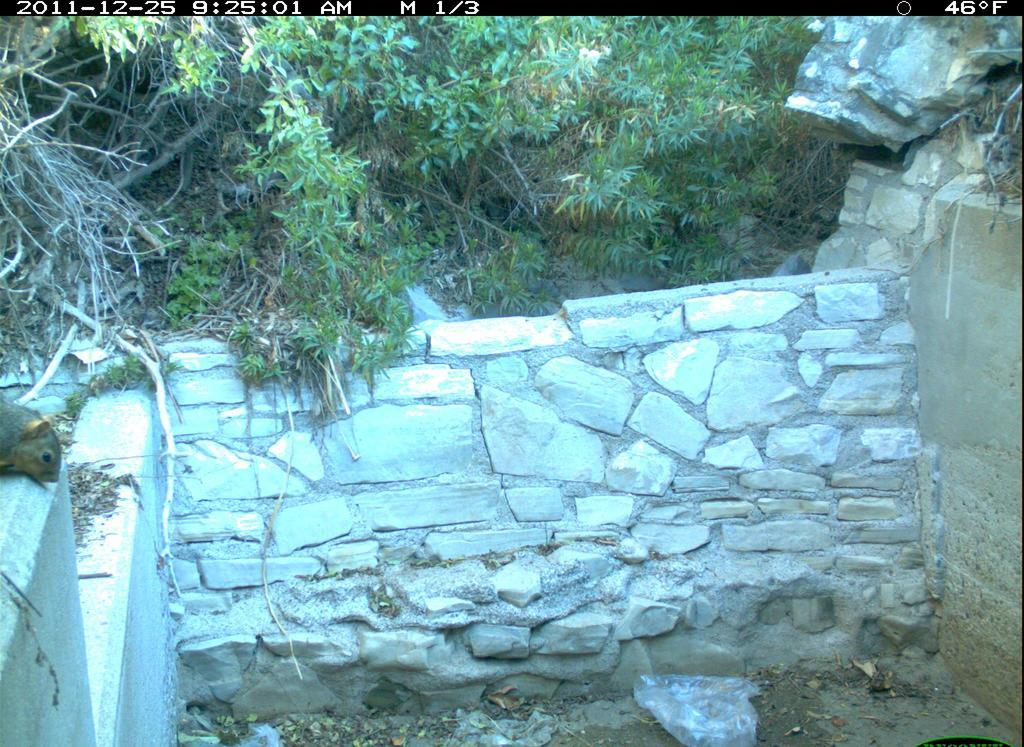squirrel: (2, 397, 76, 495)
